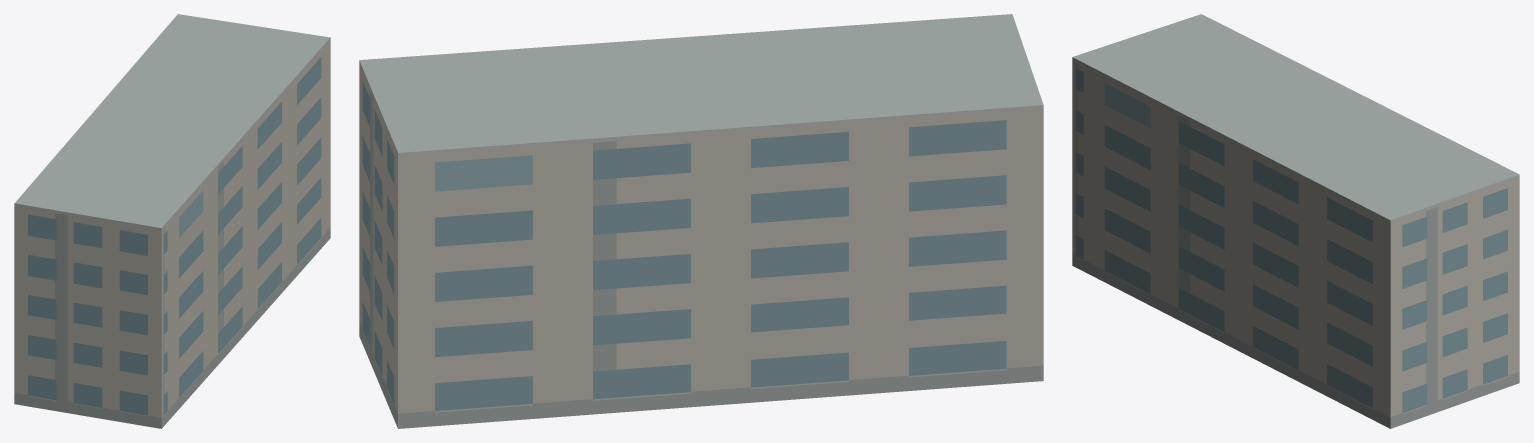
Rendered from survey-upis-32866281.glb.
3 views of the same model, side by side, from view 1: azimuth 30°, elevation 25°; view 2: azimuth 150°, elevation 25°; view 3: azimuth 270°, elevation 25° (orthographic). The views are drawn at different scales.
Parts seen in each view (by area): view 1: survey-upis-32866281.tmp; view 2: survey-upis-32866281.tmp; view 3: survey-upis-32866281.tmp.
Part boxes in pixels (x1,y1,x2,y2): survey-upis-32866281.tmp: (14, 14, 330, 428); survey-upis-32866281.tmp: (359, 14, 1043, 428); survey-upis-32866281.tmp: (1072, 14, 1519, 428).
Size of the model in its own units: 32.35 by 15.25 by 29.65.
